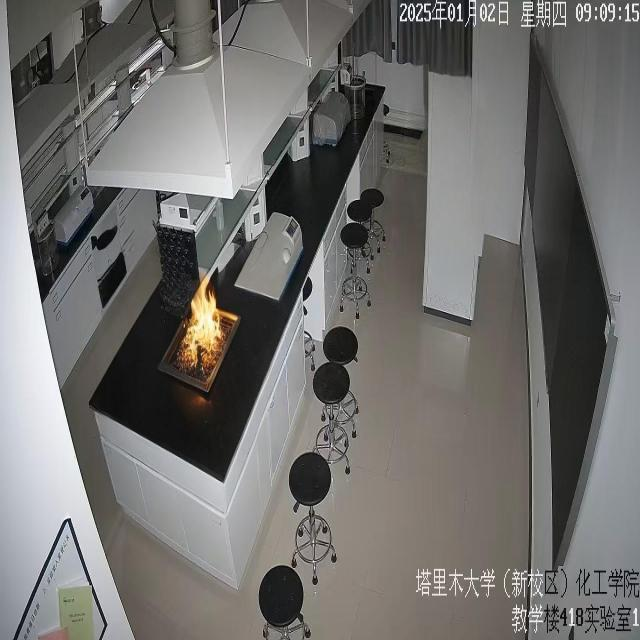smoke: (180, 270, 222, 372)
